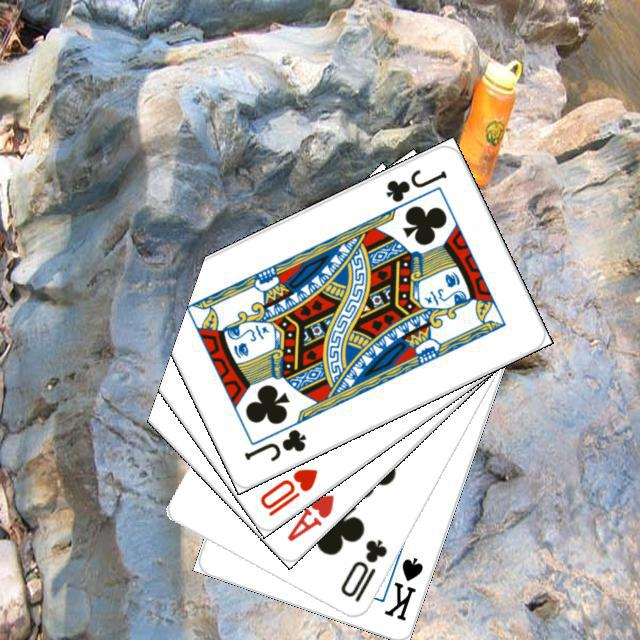10c: (335, 534, 389, 604)
10h: (255, 463, 320, 518)
Ah: (282, 489, 336, 544)
Jc: (239, 423, 308, 464), (380, 164, 449, 204)
Ks: (379, 552, 425, 623)
